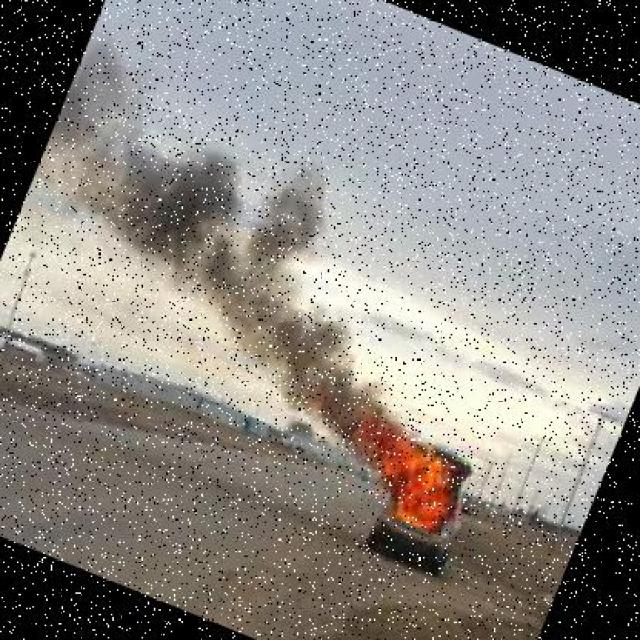fire: (306, 389, 496, 562)
